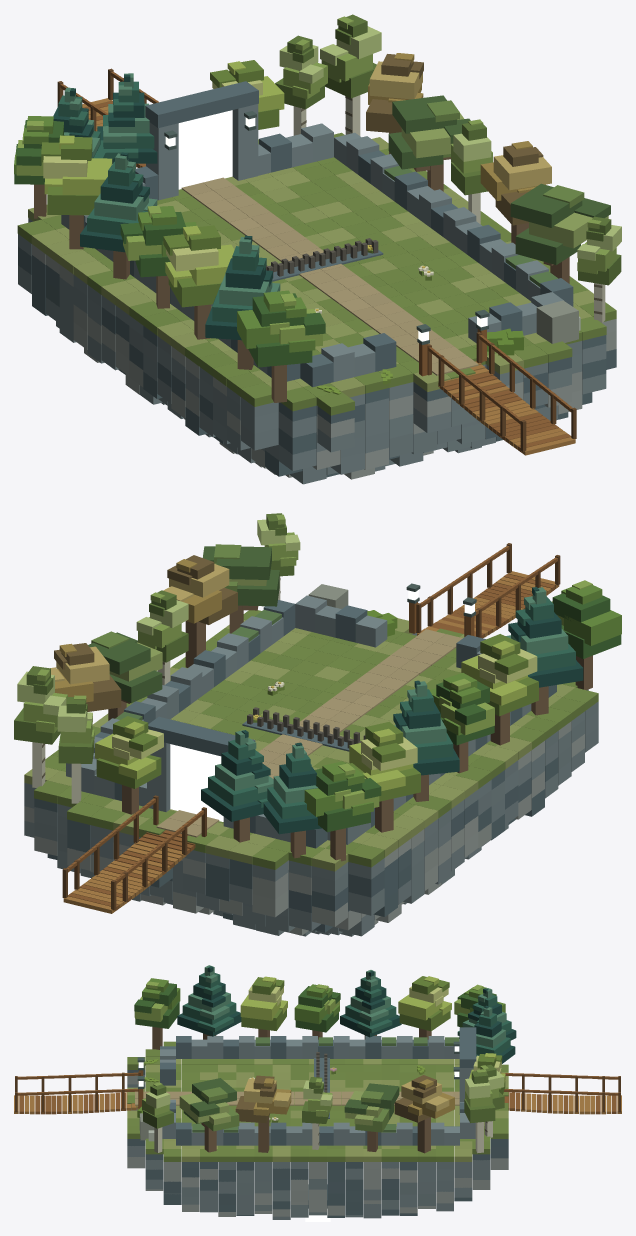
The model's file is room_spikes_purified.glb.
3 views of the same model, one above another, from view 1: azimuth 30°, elevation 25°; view 2: azimuth 150°, elevation 25°; view 3: azimuth 270°, elevation 25° (orthographic). The views are drawn at different scales.
Visible parts, largest first — view 1: room_spikes_blocks, tree0_(0, 0).001, tree3_(0, 0).001, tree4_(0, 0).002, tree3_(0, 0).002, tree4_(0, 0).001, tree2_(0, 0).002, tree2_(0, 0).001, tree1_(0, 0).003, tree5_(0, 0).001, tree2_(0, 0).004, tree0_(0, 0).002 (+9 smaller); view 2: room_spikes_blocks, tree2_(0, 0).004, tree2_(0, 0).001, tree4_(0, 0).001, tree4_(0, 0).002, tree0_(0, 0).003, tree5_(0, 0).001, tree0_(0, 0).001, tree4_(0, 0).003, tree2_(0, 0).002, tree2_(0, 0).003, tree0_(0, 0).002 (+8 smaller); view 3: room_spikes_blocks, tree2_(0, 0).001, tree3_(0, 0).001, tree2_(0, 0).002, tree5_(0, 0).002, tree4_(0, 0).002, tree5_(0, 0).001, tree3_(0, 0).002, tree4_(0, 0).001, tree0_(0, 0).001, tree0_(0, 0).002, tree1_(0, 0).003 (+7 smaller).
Boxes of the visible parts, <box> form: room_spikes_blocks: <box>17,68,616,484</box>; tree0_(0, 0).001: <box>237,290,325,402</box>; tree3_(0, 0).001: <box>510,183,610,283</box>; tree4_(0, 0).002: <box>41,135,112,249</box>; tree3_(0, 0).002: <box>388,95,470,191</box>; tree4_(0, 0).001: <box>163,225,234,339</box>; tree2_(0, 0).002: <box>80,152,157,279</box>; tree2_(0, 0).001: <box>205,235,280,369</box>; tree1_(0, 0).003: <box>320,14,381,135</box>; tree5_(0, 0).001: <box>480,141,551,244</box>; tree2_(0, 0).004: <box>97,73,157,163</box>; tree0_(0, 0).002: <box>120,205,196,308</box>; room_spikes_blocks: <box>24,543,598,936</box>; tree2_(0, 0).004: <box>201,730,273,842</box>; tree2_(0, 0).001: <box>505,587,583,715</box>; tree4_(0, 0).001: <box>461,634,538,745</box>; tree4_(0, 0).002: <box>348,721,420,832</box>; tree0_(0, 0).003: <box>304,761,381,861</box>; tree5_(0, 0).001: <box>163,555,237,667</box>; tree0_(0, 0).001: <box>552,580,621,690</box>; tree4_(0, 0).003: <box>95,716,163,814</box>; tree2_(0, 0).002: <box>393,680,459,801</box>; tree2_(0, 0).003: <box>263,742,321,858</box>; tree0_(0, 0).002: <box>430,673,494,773</box>; room_spikes_blocks: <box>14,1027,621,1221</box>; tree2_(0, 0).001: <box>177,965,241,1039</box>; tree3_(0, 0).001: <box>179,1078,239,1152</box>; tree2_(0, 0).002: <box>340,970,401,1039</box>; tree5_(0, 0).002: <box>394,1075,454,1153</box>; tree4_(0, 0).002: <box>398,976,451,1039</box>; tree5_(0, 0).001: <box>235,1075,291,1152</box>; tree3_(0, 0).002: <box>344,1083,399,1151</box>; tree4_(0, 0).001: <box>240,976,287,1037</box>; tree0_(0, 0).001: <box>134,978,180,1049</box>; tree0_(0, 0).002: <box>294,984,340,1039</box>; tree1_(0, 0).003: <box>464,1069,495,1153</box>.
Size of the model in its own units: 19.16 by 14.04 by 38.5.
